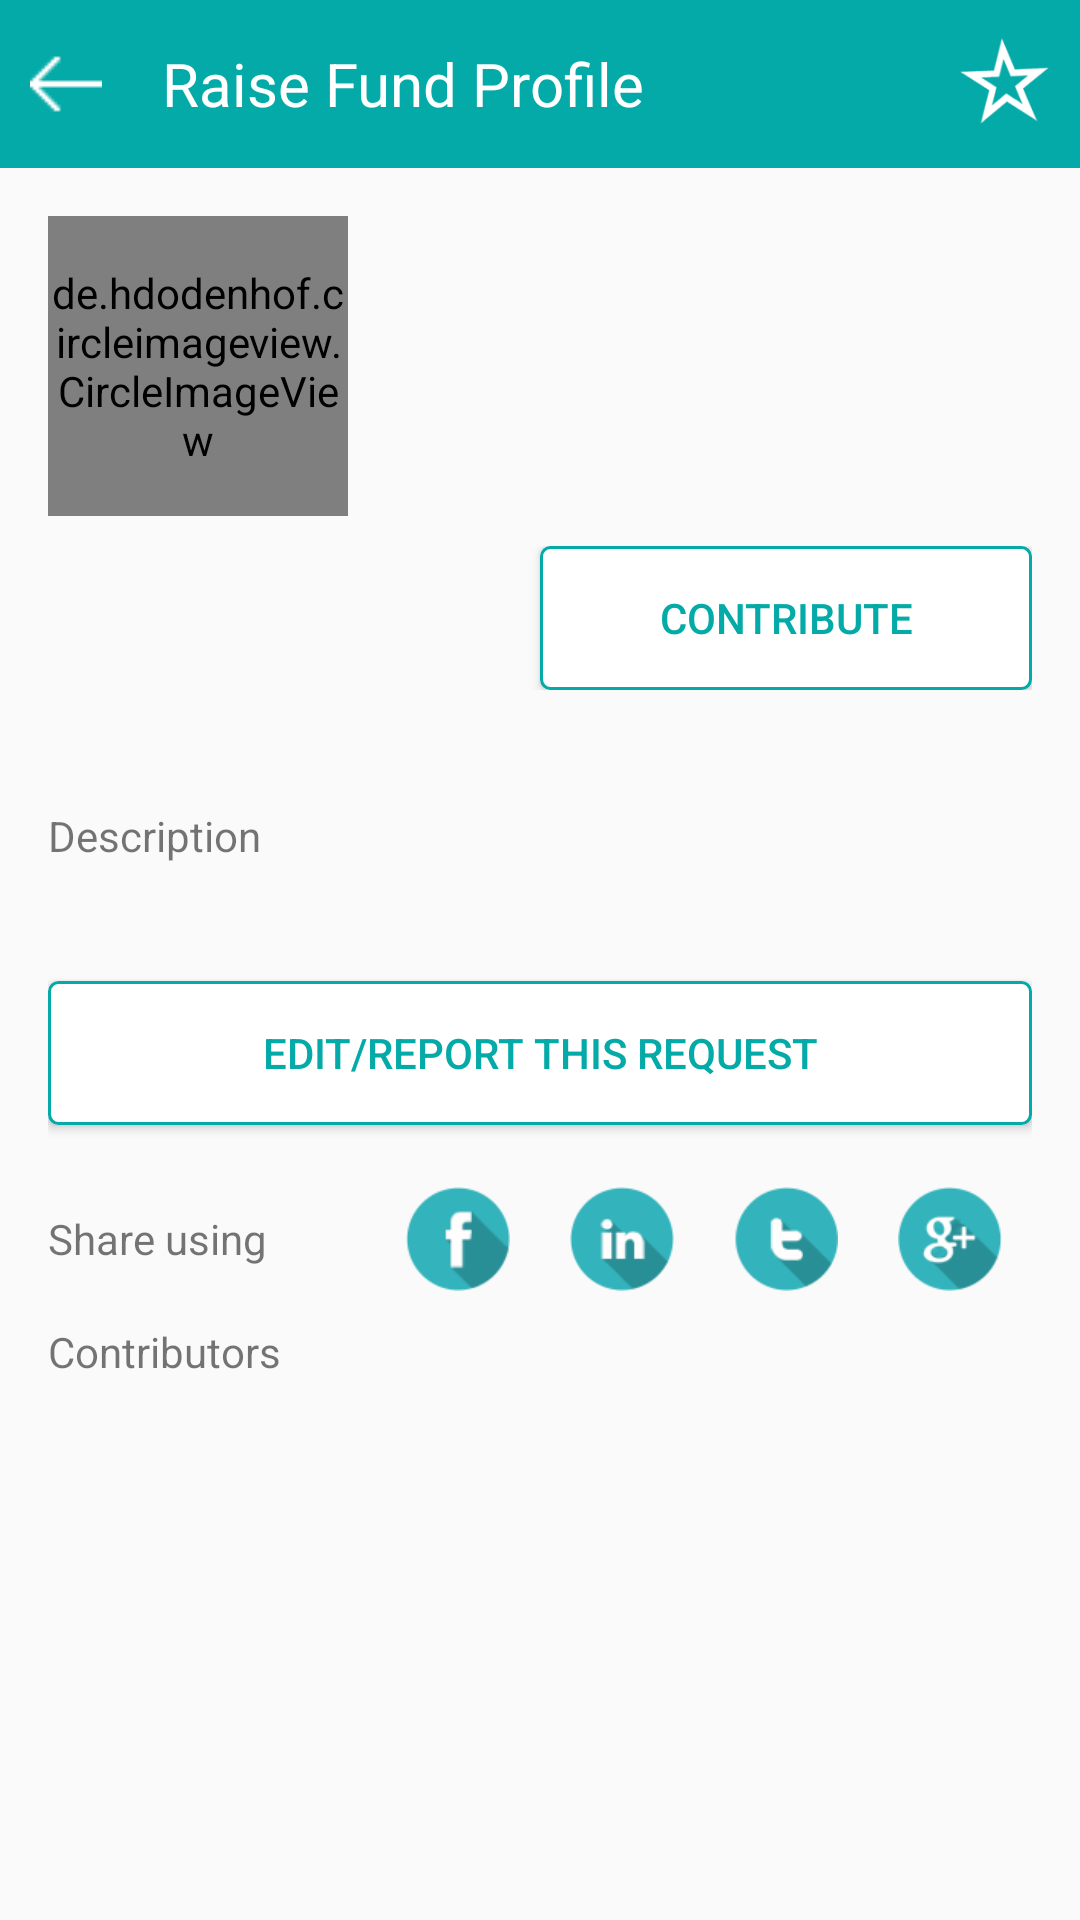

Where icons sit on this 1080*1920 app screen, as (x1, y1, x2, y2):
back: (30, 56, 102, 112)
star: (961, 39, 1048, 123)
